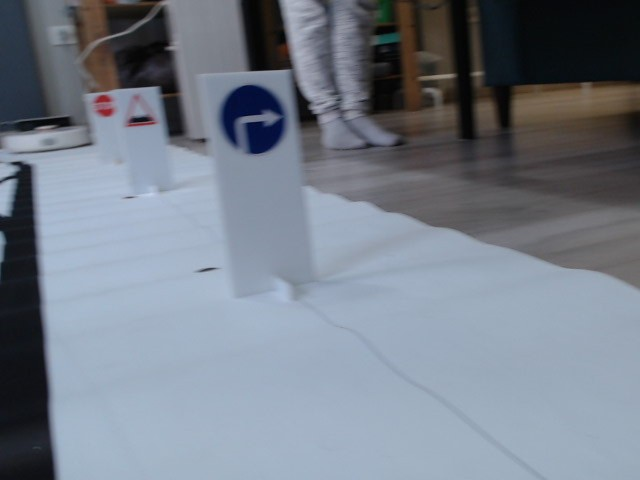Nerov: (124, 94, 157, 127)
Right: (218, 82, 286, 158)
